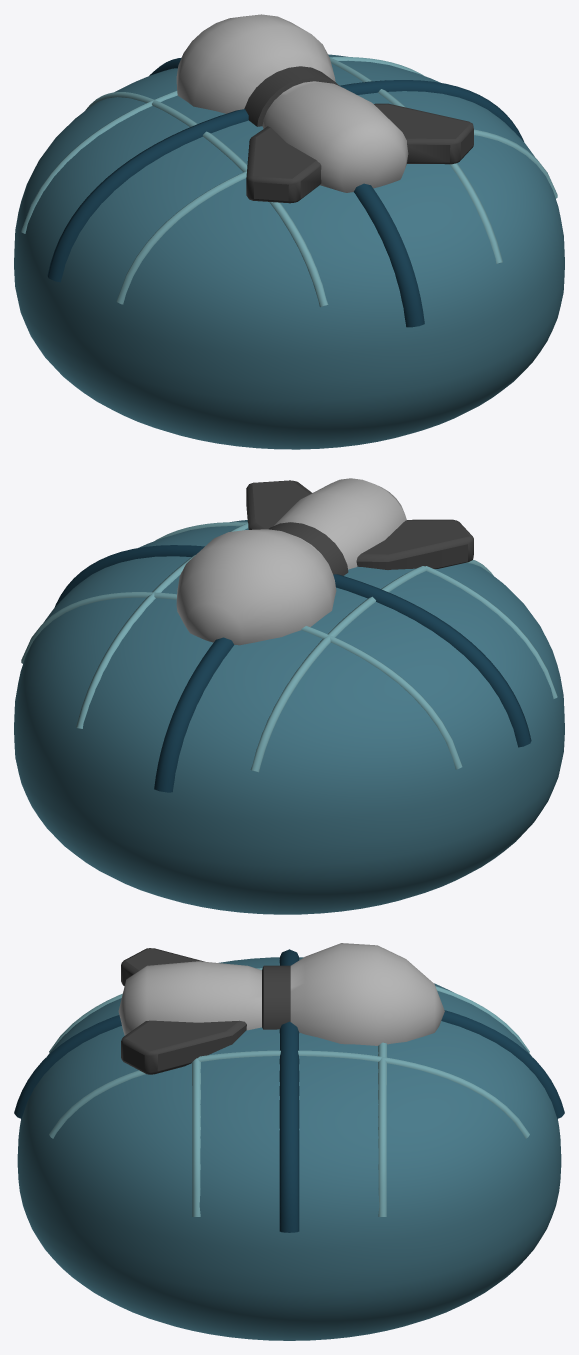
The model's file is pu_missile.glb.
The picture shows the model from 3 angles, top to bottom: view 1: azimuth 30°, elevation 25°; view 2: azimuth 150°, elevation 25°; view 3: azimuth 270°, elevation 25°; orthographic projection. The views are drawn at different scales.
Parts seen in each view (by area): view 1: orb, rocket, rocket_fin, orb_groove_13, orb_seam_13; view 2: orb, rocket, orb_groove_13, rocket_fin, orb_seam_13; view 3: orb, rocket, orb_groove_13, rocket_fin, orb_seam_13.
Part boxes in pixels (box(x1,y1,x2,y2)): orb: box(14, 54, 564, 449); rocket: box(176, 14, 408, 192); rocket_fin: box(244, 66, 473, 203); orb_groove_13: box(47, 57, 523, 327); orb_seam_13: box(21, 57, 557, 306); orb: box(14, 520, 564, 914); rocket: box(176, 478, 406, 645); orb_groove_13: box(55, 545, 531, 792); rocket_fin: box(246, 480, 473, 575); orb_seam_13: box(21, 522, 557, 772); orb: box(17, 957, 561, 1340); rocket: box(118, 943, 444, 1045); orb_groove_13: box(14, 949, 564, 1232); rocket_fin: box(121, 948, 290, 1074); orb_seam_13: box(49, 968, 529, 1216).
Bounding box in the file's own units: 20.88 × 14.23 × 21.27.
